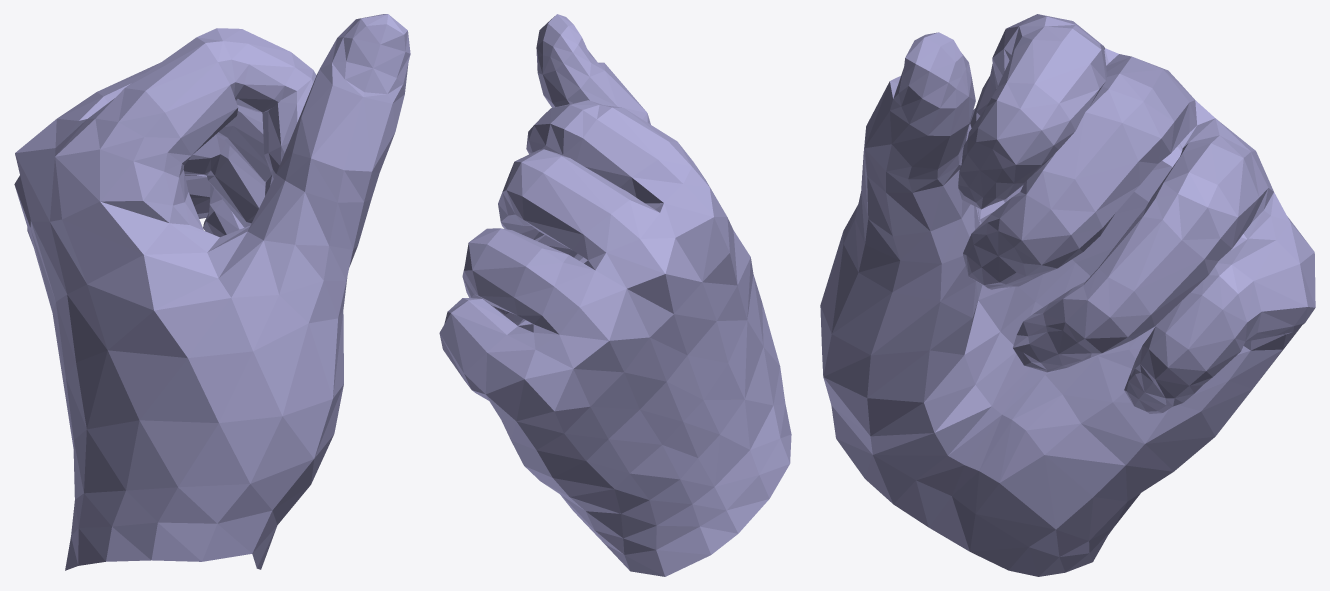
Rendered from frame_0009_source_000009_hand.glb.
3 renders of one model, left to right at view 1: azimuth 30°, elevation 25°; view 2: azimuth 150°, elevation 25°; view 3: azimuth 270°, elevation 25°, orthographic. The views are drawn at different scales.
Visible parts, largest first — view 1: world; view 2: world; view 3: world.
Boxes of the visible parts, x1,y1,x2,y2 form: world: (14, 14, 410, 570); world: (439, 14, 791, 576); world: (820, 14, 1315, 576).
Bounding box in the file's own units: 0.0677 × 0.1231 × 0.0903.
